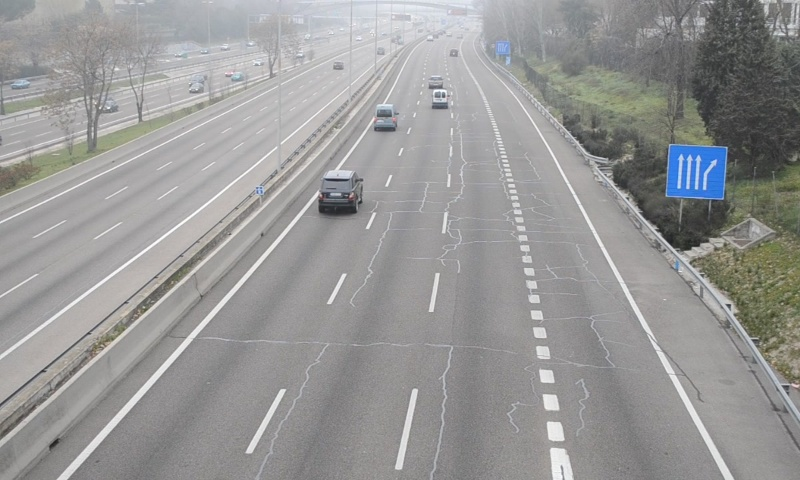car: (318, 170, 362, 212)
van: (373, 103, 398, 130), (431, 87, 449, 110)
